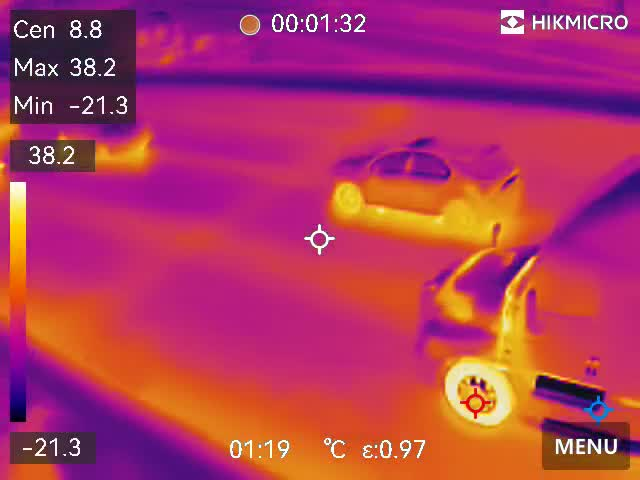heavyTruck: (403, 150, 640, 458)
largeCar: (322, 133, 525, 242)
